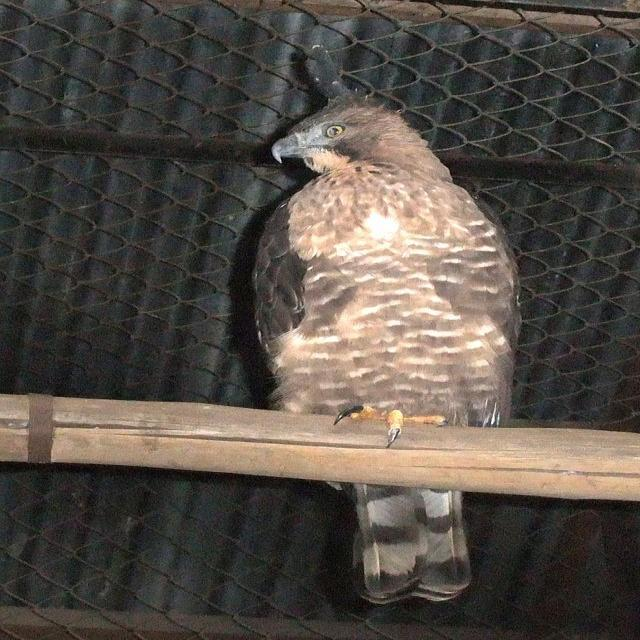Elang Jawa: (209, 22, 543, 618)
